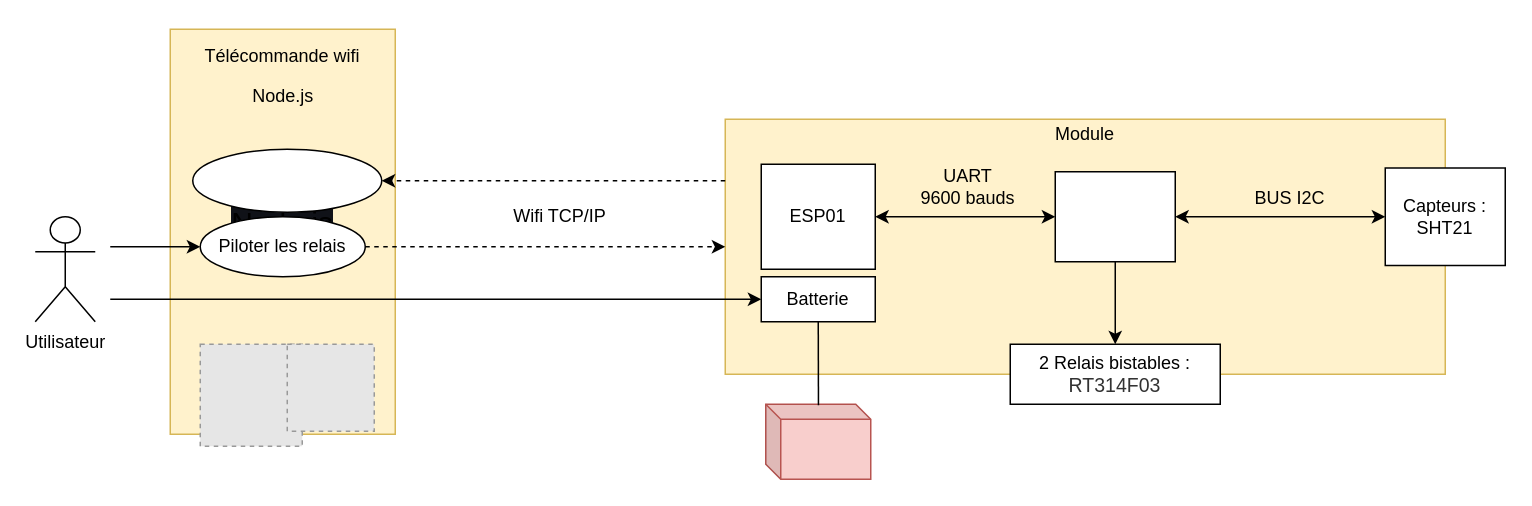
Some shapes in this 1532 by 506 pixel diagram are drawn without their labels. Grey dashed boxes stand in for pictures. Each missing label, with the box of its shape:
Affichage des données: (191, 148, 382, 212)
Chargeur: (764, 403, 871, 479)
PIC 18F26K22: (1054, 170, 1175, 262)
